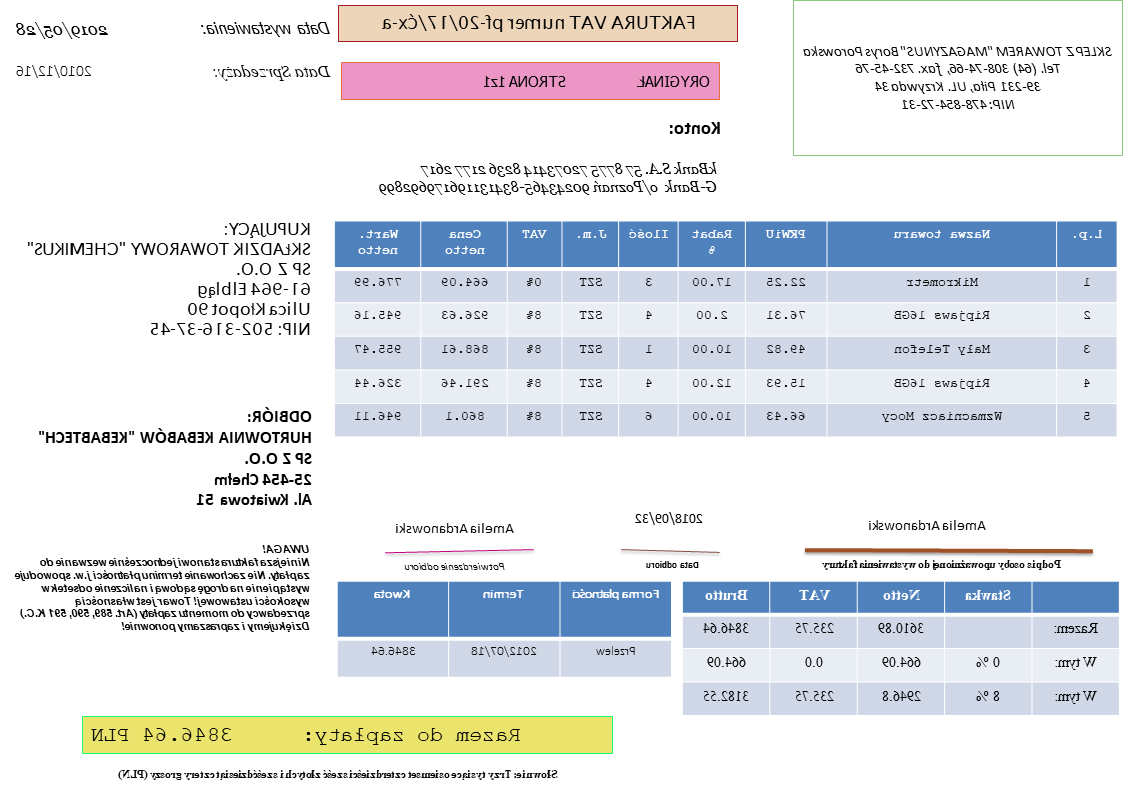Table: (333, 219, 1120, 438), (683, 579, 1121, 716), (337, 580, 673, 678)
TextBox: (24, 218, 315, 339), (35, 405, 314, 509), (12, 541, 313, 633), (801, 42, 1114, 112), (375, 159, 720, 198), (90, 725, 523, 747), (379, 11, 698, 34), (117, 766, 560, 782), (481, 72, 711, 91), (822, 556, 1064, 572), (200, 16, 332, 40), (211, 62, 333, 82), (14, 19, 111, 41), (867, 517, 988, 534), (394, 521, 516, 535), (402, 559, 508, 573), (15, 62, 94, 79), (634, 510, 705, 527), (669, 118, 723, 138), (646, 558, 702, 571)
